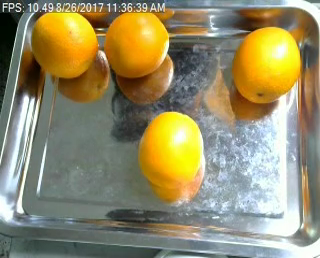Orange: (230, 25, 301, 103), (137, 110, 204, 189), (30, 9, 99, 79), (107, 10, 169, 78)
